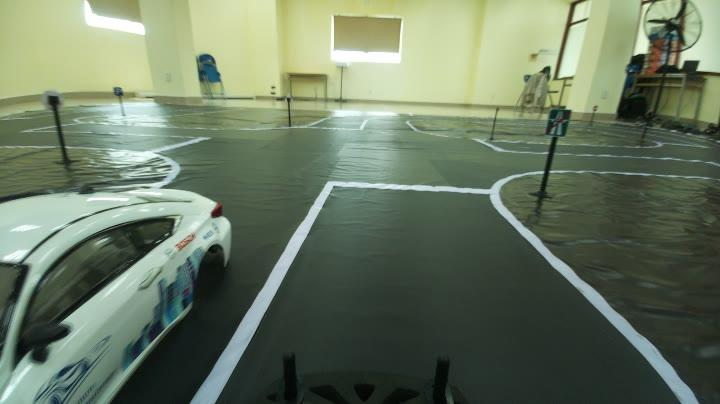car: (0, 162, 221, 400)
highway_exit: (540, 103, 572, 142)
